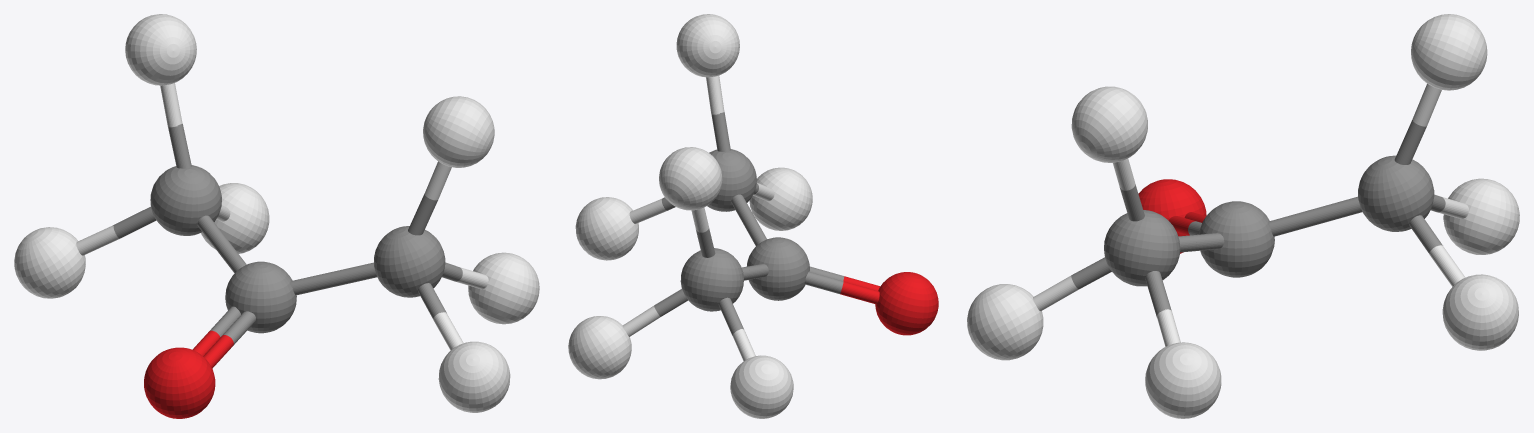
Rendered from acetone.fbx.
The picture shows the model from 3 angles, left to right: view 1: azimuth 30°, elevation 25°; view 2: azimuth 150°, elevation 25°; view 3: azimuth 270°, elevation 25°; orthographic projection. The views are drawn at different scales.
Parts seen in each view (by area): view 1: Sphere.015, Sphere.006, Sphere.010, Sphere.013, Sphere.000, Sphere.005, Sphere.014, Sphere.002, Sphere.004, Sphere.003, Cylinder.027, Cylinder.011 (+11 smaller); view 2: Sphere.000, Sphere.006, Sphere.015, Sphere.003, Sphere.010, Sphere.002, Sphere.005, Sphere.004, Sphere.013, Sphere.014, Cylinder.001, Cylinder.028 (+9 smaller); view 3: Sphere.002, Sphere.006, Sphere.015, Sphere.003, Sphere.013, Sphere.005, Sphere.014, Sphere.000, Sphere.004, Sphere.010, Cylinder.010, Cylinder.007 (+9 smaller).
Boxes of the visible parts, left/top/right/bottom form: Sphere.015: left=423, top=96, right=494, bottom=167; Sphere.006: left=125, top=14, right=196, bottom=85; Sphere.010: left=144, top=347, right=215, bottom=418; Sphere.013: left=438, top=341, right=510, bottom=412; Sphere.000: left=14, top=227, right=85, bottom=298; Sphere.005: left=150, top=165, right=221, bottom=235; Sphere.014: left=374, top=226, right=445, bottom=297; Sphere.002: left=468, top=252, right=539, bottom=324; Sphere.004: left=225, top=261, right=296, bottom=333; Sphere.003: left=201, top=183, right=269, bottom=253; Cylinder.027: left=331, top=262, right=376, bottom=286; Cylinder.011: left=168, top=124, right=191, bottom=168; Sphere.000: left=730, top=355, right=793, bottom=418; Sphere.006: left=659, top=147, right=722, bottom=210; Sphere.015: left=676, top=14, right=739, bottom=77; Sphere.003: left=568, top=316, right=631, bottom=379; Sphere.010: left=875, top=272, right=938, bottom=335; Sphere.002: left=575, top=197, right=638, bottom=260; Sphere.005: left=680, top=248, right=743, bottom=311; Sphere.004: left=747, top=237, right=809, bottom=300; Sphere.013: left=749, top=167, right=812, bottom=230; Sphere.014: left=707, top=149, right=756, bottom=211; Cylinder.001: left=840, top=281, right=879, bottom=304; Cylinder.028: left=711, top=112, right=730, bottom=151; Sphere.002: left=1145, top=342, right=1221, bottom=418; Sphere.006: left=1411, top=14, right=1487, bottom=90; Sphere.015: left=1071, top=86, right=1147, bottom=162; Sphere.003: left=1442, top=274, right=1518, bottom=350; Sphere.013: left=967, top=284, right=1043, bottom=360; Sphere.005: left=1358, top=155, right=1434, bottom=231; Sphere.014: left=1104, top=210, right=1180, bottom=286; Sphere.000: left=1443, top=178, right=1519, bottom=254; Sphere.004: left=1199, top=201, right=1274, bottom=277; Sphere.010: left=1138, top=179, right=1206, bottom=253; Cylinder.010: left=1312, top=196, right=1362, bottom=224; Cylinder.007: left=1269, top=209, right=1316, bottom=236.
Bounding box in the file's own units: 96.04 × 64.09 × 109.
